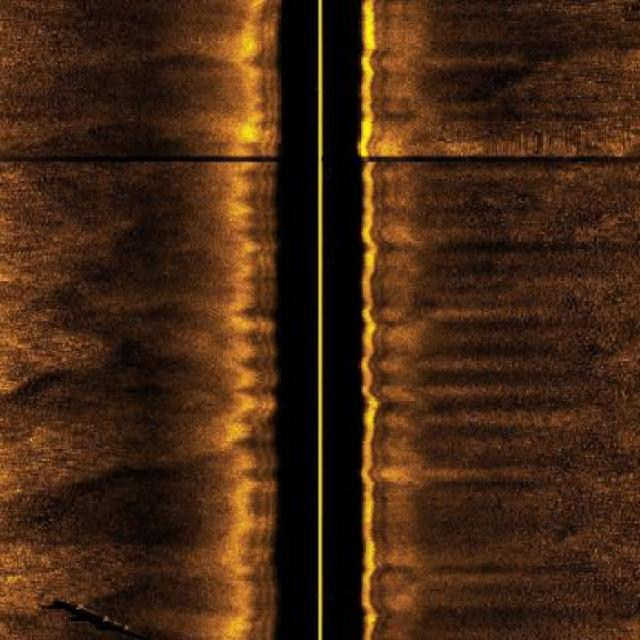other: (54, 595, 155, 639)
